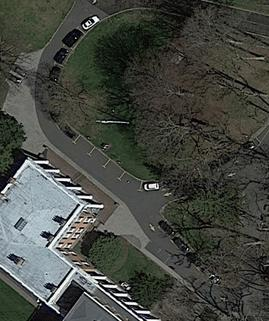parkingspot: (50, 112, 166, 192), (156, 218, 223, 287), (48, 14, 102, 83)
